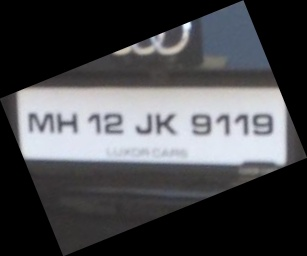character: (27, 112, 54, 133), (153, 111, 176, 135), (251, 111, 273, 136), (56, 111, 79, 134), (189, 112, 212, 135), (102, 112, 124, 135), (135, 113, 154, 135), (86, 111, 102, 136), (215, 112, 230, 136), (233, 112, 248, 136)
